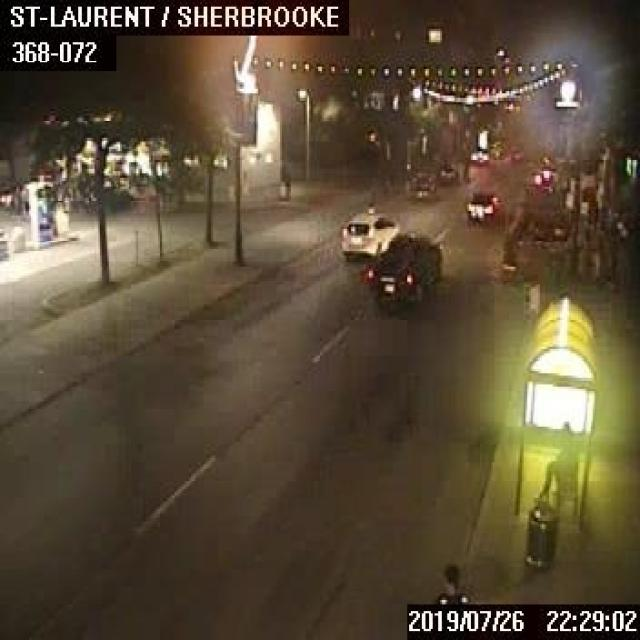pedestrian: (529, 414, 576, 504), (431, 558, 469, 602), (584, 190, 597, 230), (278, 162, 290, 198)
vehicle: (363, 235, 440, 300), (340, 206, 398, 256), (465, 191, 502, 222), (411, 174, 433, 200), (533, 167, 553, 190), (434, 161, 456, 181), (468, 147, 488, 165)
